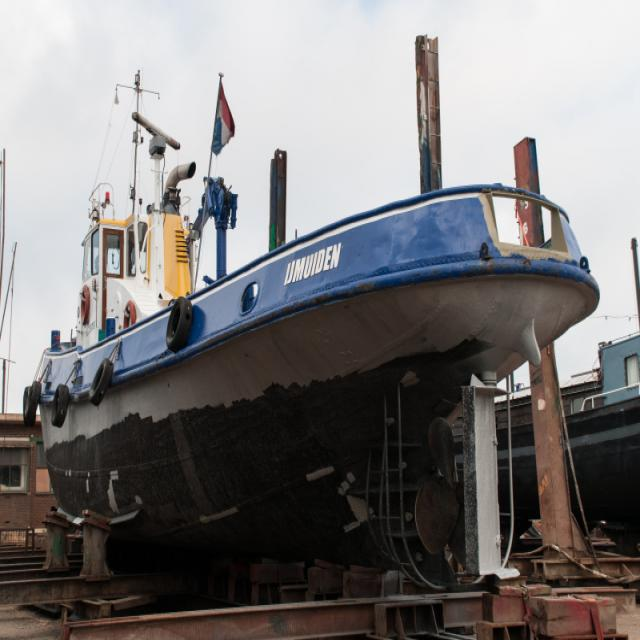tugboat: (21, 110, 605, 544)
